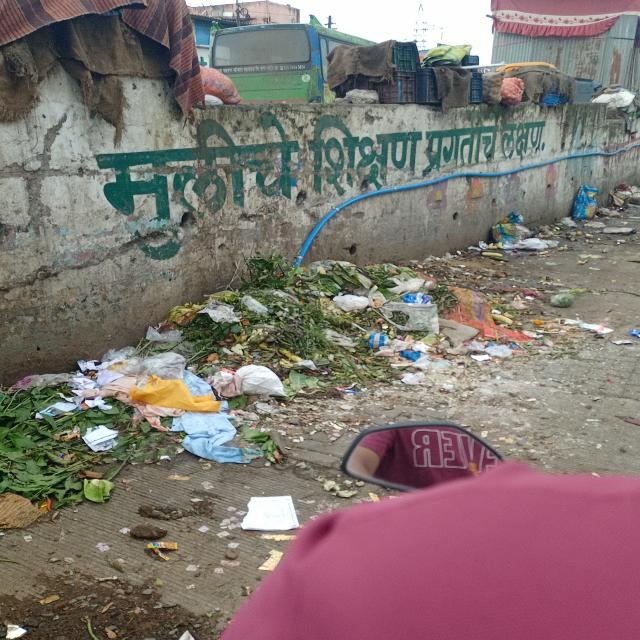garbage: (176, 266, 519, 386), (3, 347, 284, 485), (482, 211, 560, 258)
